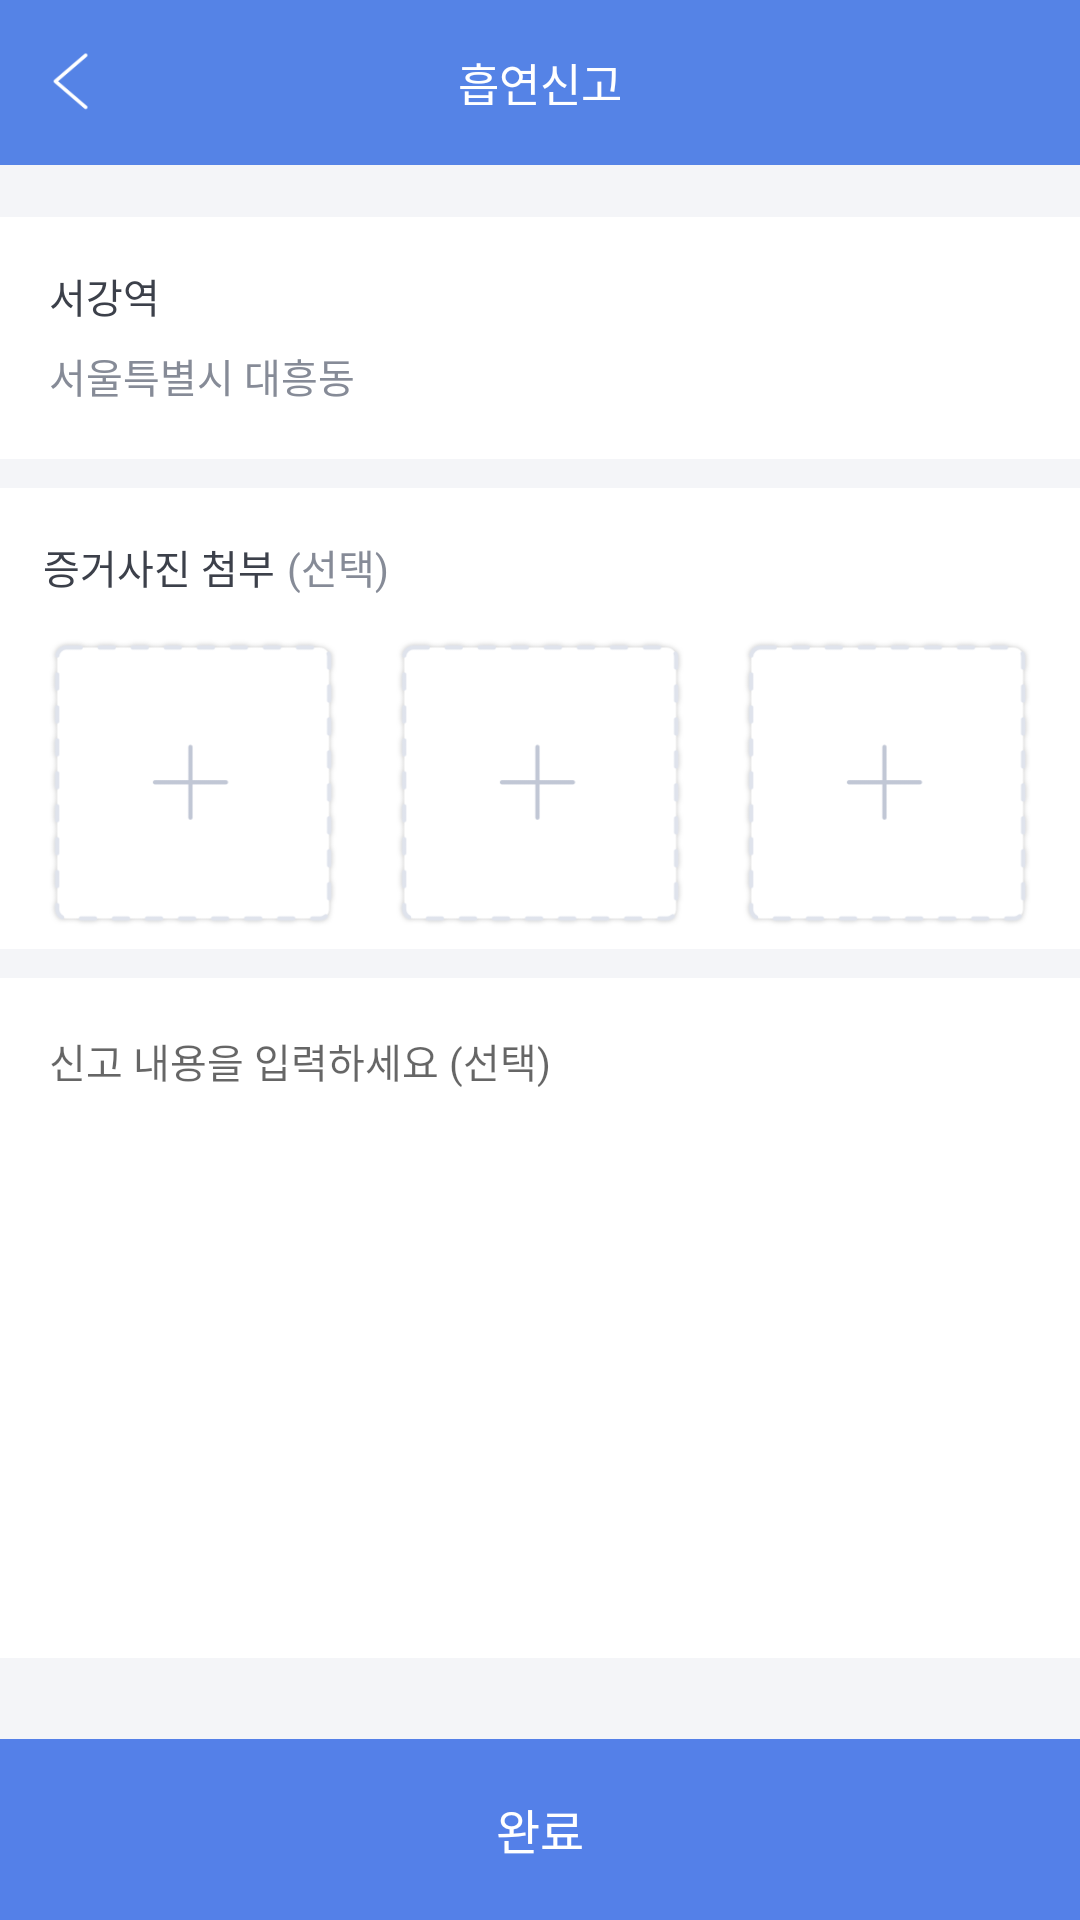

Icon click points for this 1080×1920 phone screenshot, format point (x, y):
back: point (70, 81)
